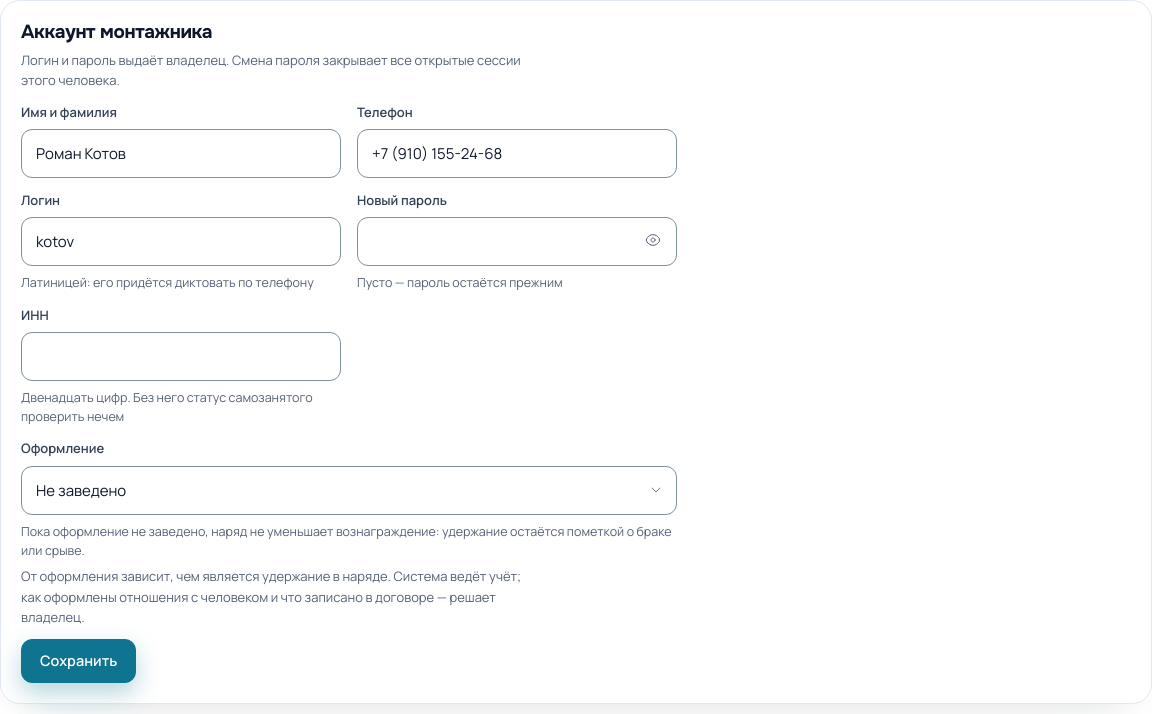
Scenario: Учётная запись монтажника — ИНН › выбор самозанятости у человека без ИНН поднимает предупреждение сразу
Select "Самозанятый" in the dropdown labelled "Оформление": [349, 490] box [21, 466, 677, 515]
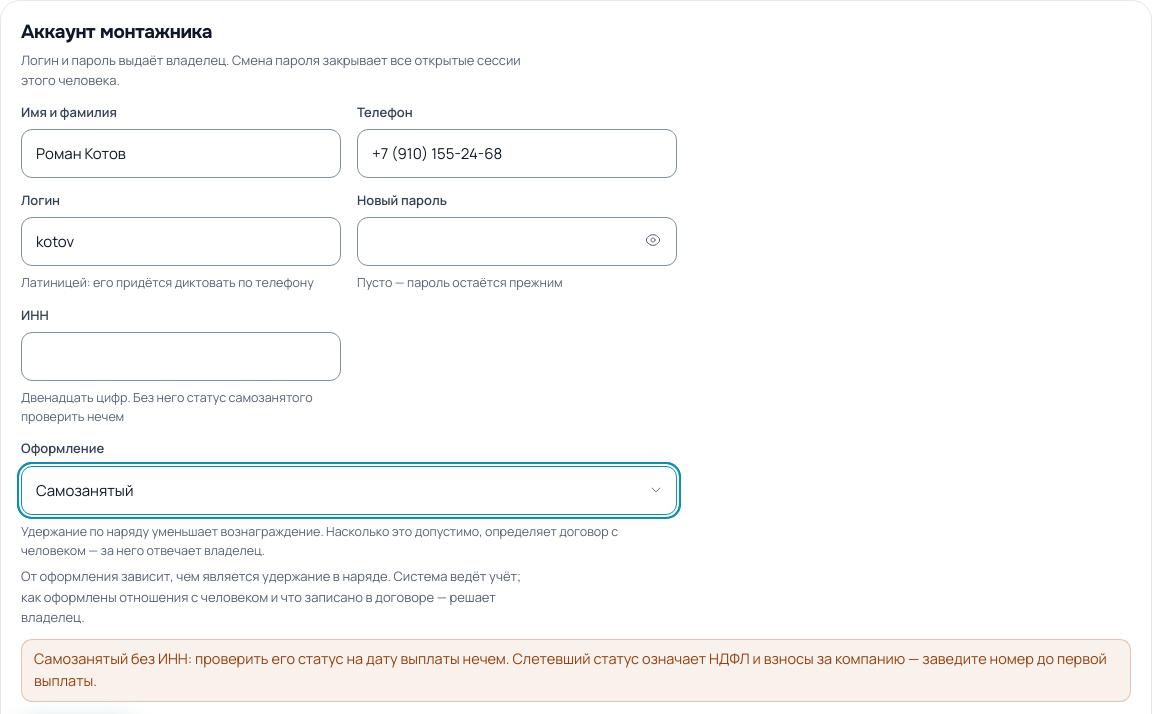
Expected: the text "Самозанятый без ИНН: проверить его статус на дату выплаты нечем. Слетевший статус означает НДФЛ и взносы за компанию — з" is shown, [34, 649, 1107, 690]
